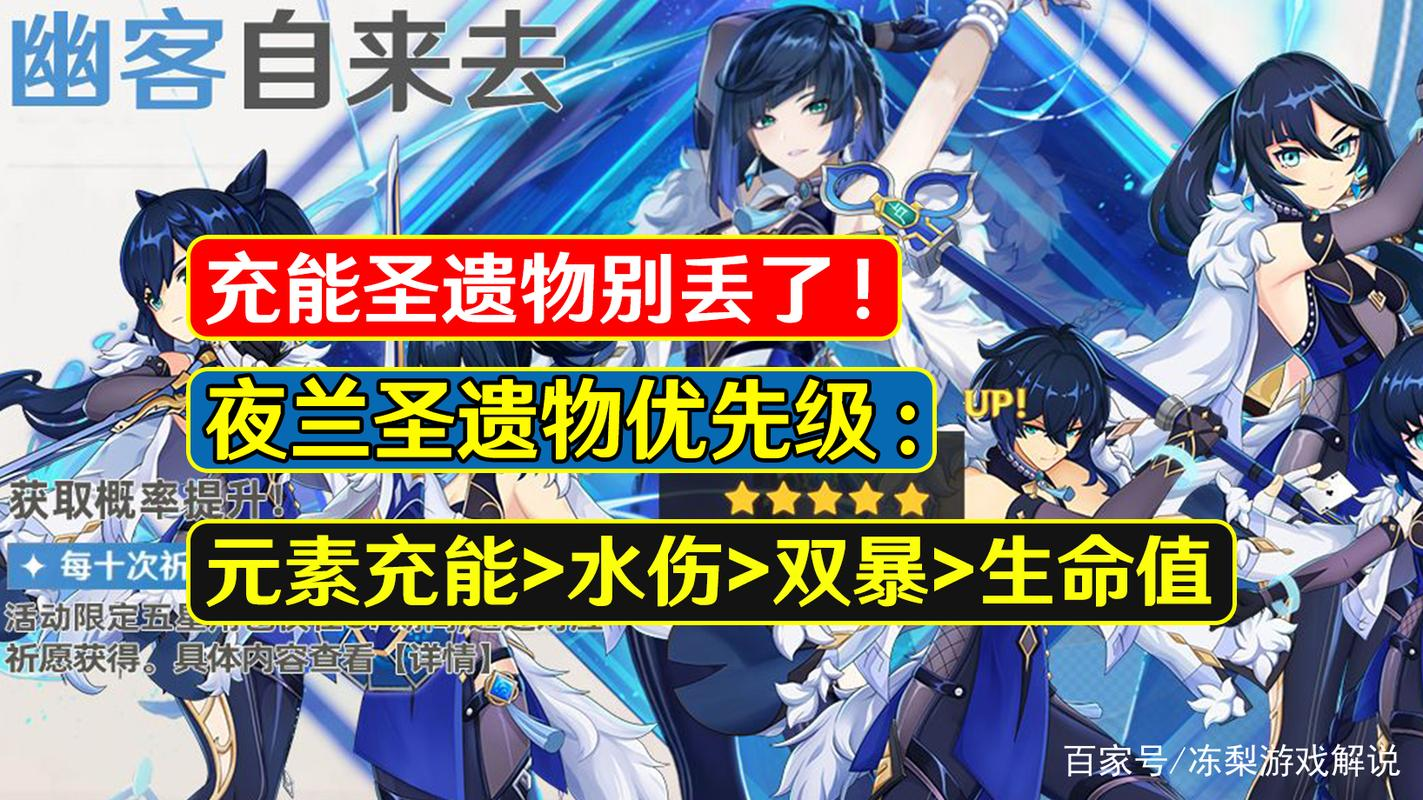夜兰: (630, 1, 928, 800)
